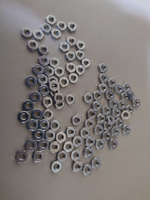nut: (16, 150, 29, 164), (24, 139, 37, 152), (36, 139, 49, 152), (26, 39, 39, 52), (32, 151, 45, 163), (50, 161, 63, 173), (49, 141, 61, 154), (39, 119, 51, 132), (18, 111, 31, 123), (33, 129, 45, 141), (21, 27, 33, 39), (56, 132, 67, 144), (72, 115, 83, 127), (26, 121, 38, 132), (23, 101, 35, 112), (26, 76, 37, 88), (54, 93, 65, 105), (38, 55, 50, 66), (51, 28, 62, 40), (67, 21, 78, 33), (58, 150, 68, 163), (51, 119, 61, 132), (65, 94, 76, 105), (72, 162, 83, 173), (49, 81, 60, 92), (73, 136, 84, 147), (34, 30, 45, 41), (39, 45, 50, 56), (81, 58, 92, 69), (93, 125, 104, 136), (121, 110, 132, 121), (64, 141, 74, 153), (46, 130, 56, 142), (32, 109, 42, 121), (83, 164, 93, 176), (38, 74, 48, 86), (59, 76, 69, 88), (69, 73, 79, 85), (33, 65, 45, 75), (42, 22, 52, 34), (47, 14, 57, 26), (57, 20, 67, 32), (84, 93, 94, 105), (67, 127, 77, 138), (42, 97, 52, 108), (30, 92, 40, 103), (72, 150, 82, 161), (59, 42, 70, 52), (76, 65, 86, 76), (92, 158, 102, 169), (108, 140, 119, 150), (80, 128, 90, 139), (87, 109, 97, 120), (93, 91, 103, 102), (105, 90, 115, 101), (102, 105, 112, 116), (111, 126, 121, 137), (67, 62, 76, 74), (86, 136, 95, 148), (85, 118, 94, 130), (44, 110, 54, 120), (50, 58, 60, 68), (66, 51, 76, 61), (55, 67, 65, 77), (84, 149, 94, 159), (102, 132, 112, 142), (98, 63, 108, 73), (98, 73, 108, 83), (40, 86, 49, 97), (67, 36, 76, 47), (96, 139, 105, 150), (133, 97, 142, 108), (104, 120, 113, 131), (55, 99, 64, 109), (50, 88, 59, 98), (49, 76, 58, 86), (108, 79, 117, 89), (110, 100, 119, 110), (113, 108, 122, 118), (93, 101, 102, 111), (126, 106, 136, 115), (116, 84, 124, 95), (123, 125, 131, 136), (77, 40, 86, 49), (121, 92, 130, 101), (97, 114, 106, 123), (100, 83, 108, 93), (124, 83, 132, 92), (119, 102, 127, 110), (78, 50, 85, 59), (45, 68, 54, 75), (115, 119, 124, 126), (107, 116, 115, 123)
